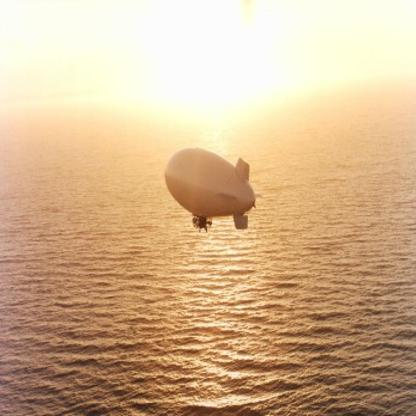Airship: (163, 146, 259, 238)
